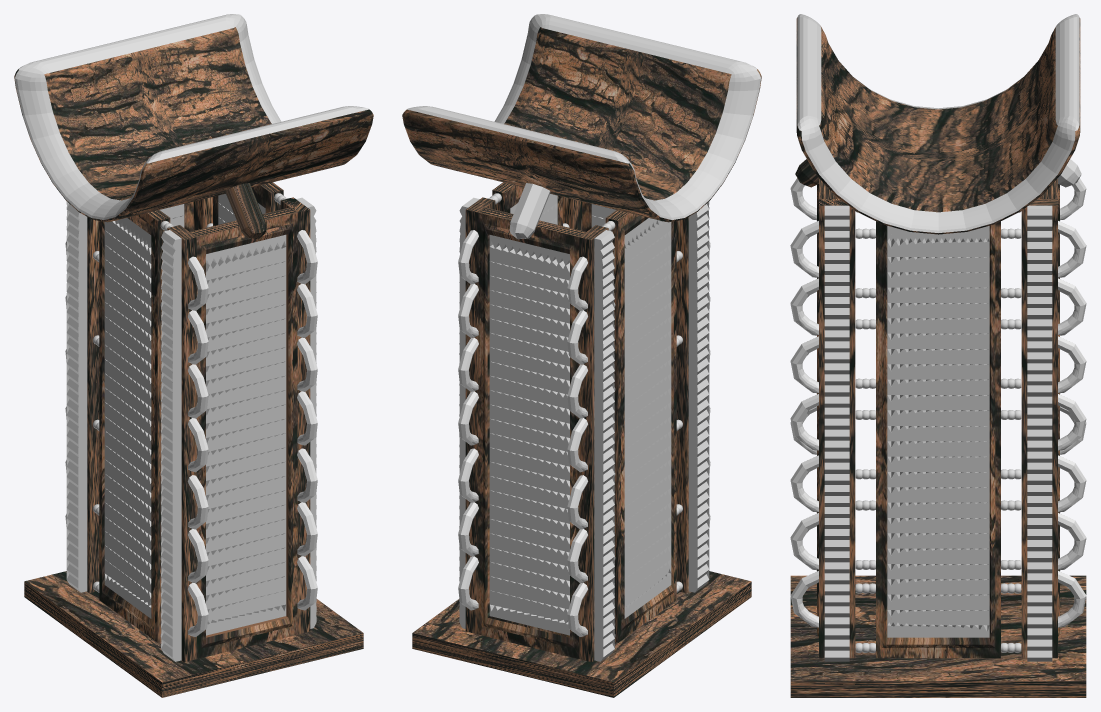
File: Trono.fbx
3 views of the same model, side by side, from view 1: azimuth 30°, elevation 25°; view 2: azimuth 150°, elevation 25°; view 3: azimuth 270°, elevation 25° (orthographic). The views are drawn at different scales.
Visible parts, largest first — view 1: Cube.003, Cube.007, Cube.005, Cube.001, Cube.002, Cube.006, Cube.004; view 2: Cube.003, Cube.007, Cube.005, Cube.001, Cube.002, Cube.006, Cube.004; view 3: Cube.003, Cube.007, Cube.005, Cube.001, Cube.002, Cube.004, Cube.006.
Part boxes in pixels (box(x1,y1,x2,y2)): Cube.003: box(87, 182, 310, 662); Cube.007: box(14, 14, 373, 222); Cube.005: box(66, 197, 316, 661); Cube.001: box(24, 571, 363, 697); Cube.002: box(65, 201, 317, 636); Cube.006: box(225, 183, 266, 239); Cube.004: box(93, 193, 287, 636); Cube.003: box(465, 182, 688, 662); Cube.007: box(402, 14, 761, 222); Cube.005: box(459, 197, 709, 661); Cube.001: box(412, 571, 751, 697); Cube.002: box(458, 201, 710, 636); Cube.006: box(509, 183, 550, 239); Cube.004: box(488, 193, 682, 636); Cube.003: box(817, 179, 1059, 658); Cube.007: box(796, 14, 1080, 234); Cube.005: box(824, 205, 1052, 661); Cube.001: box(790, 575, 1086, 697); Cube.002: box(790, 178, 1086, 627); Cube.004: box(855, 211, 1021, 652); Cube.006: box(795, 159, 1081, 187).
Bounding box in the file's own units: 230 × 510 × 237.
Materials: 3 (1 with a texture image).
